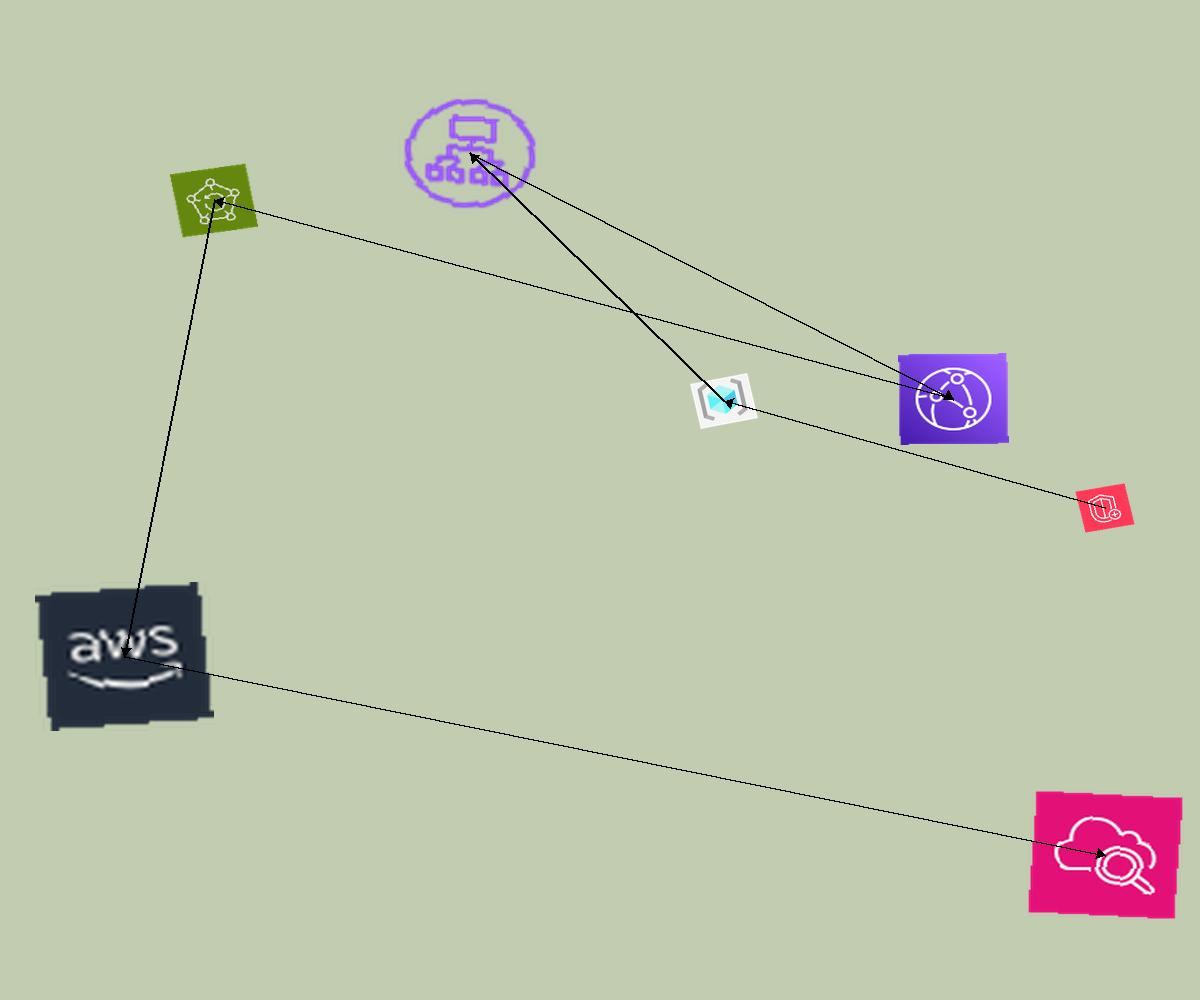AWS-Backup: (169, 163, 259, 238)
AWS-Cloud-logo: (35, 582, 214, 731)
AWS-CloudFront: (898, 353, 1009, 445)
AWS-CloudWatch: (1027, 790, 1184, 920)
AWS-Res_Elastic-Load-Balancing_Application-Load-Balancer: (390, 87, 550, 220)
AWS-Shield: (1075, 483, 1135, 533)
Azure_resource_group: (690, 373, 758, 429)
